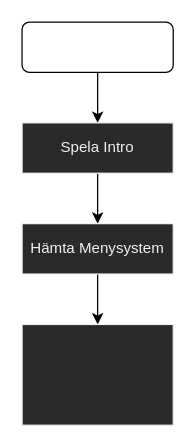
Some shapes in this 195 by 447 pixel diagram are drawn without their labels. Here are the shapes that lost their labels. From the top down, the box of each, then its label:
(21, 21, 173, 72): Start
(21, 323, 173, 425): Presentera Lista Användarna + Skapa Ny
